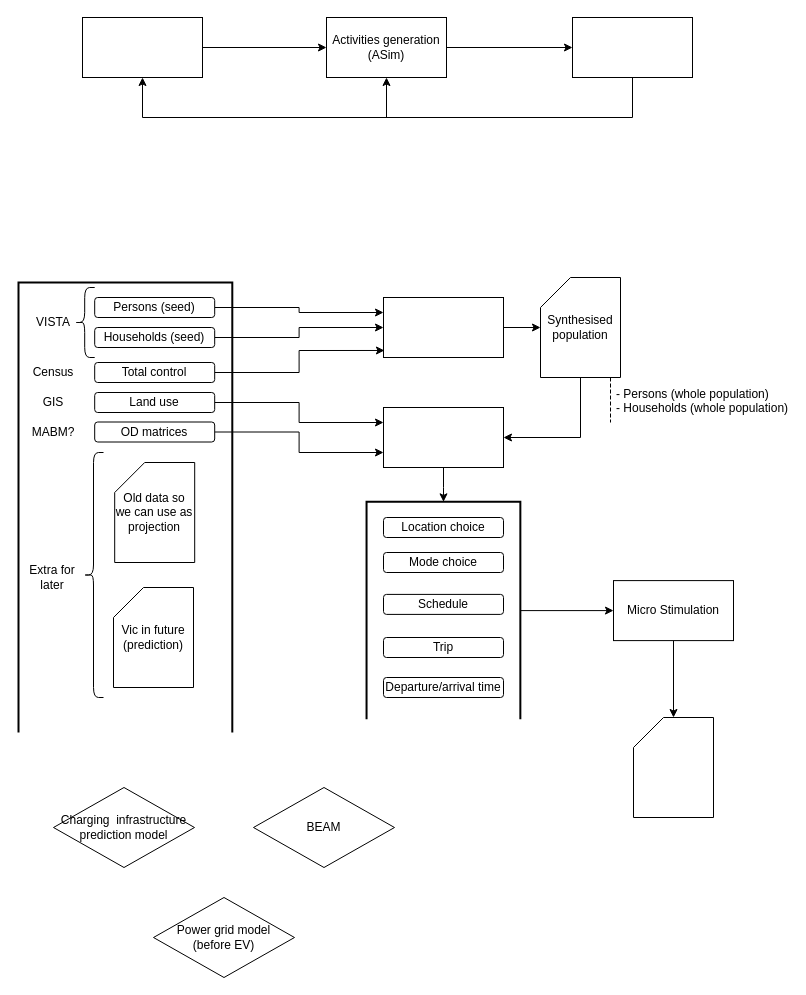
This 806x995 diagram has some shape labels left out. The shapes that lost their labels are listed below. From the top down, each one's box as (x1, y1, x2, y2) in pixels, then its label:
(82, 16, 202, 78): Population Synthesis (PopSim)
(572, 16, 692, 78): Micro Stimulation (MATSim)
(382, 296, 504, 358): Population Synthesis
(382, 406, 504, 468): Activities generation
(632, 716, 714, 818): Final report
